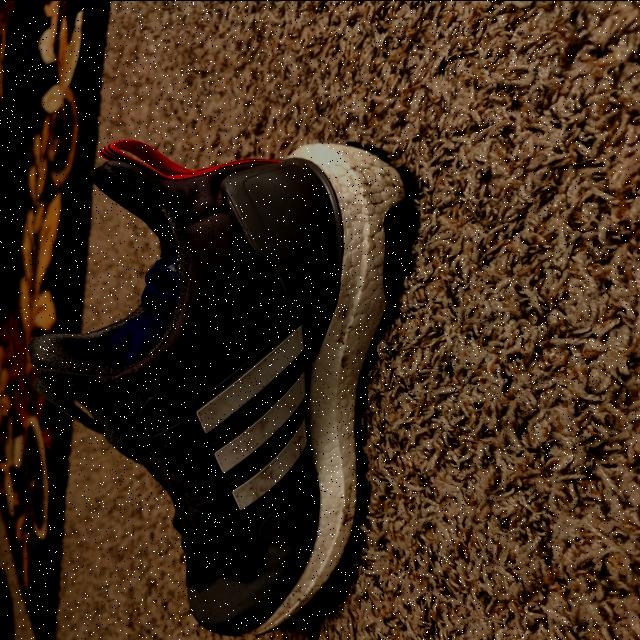black shoes: (41, 134, 407, 628)
